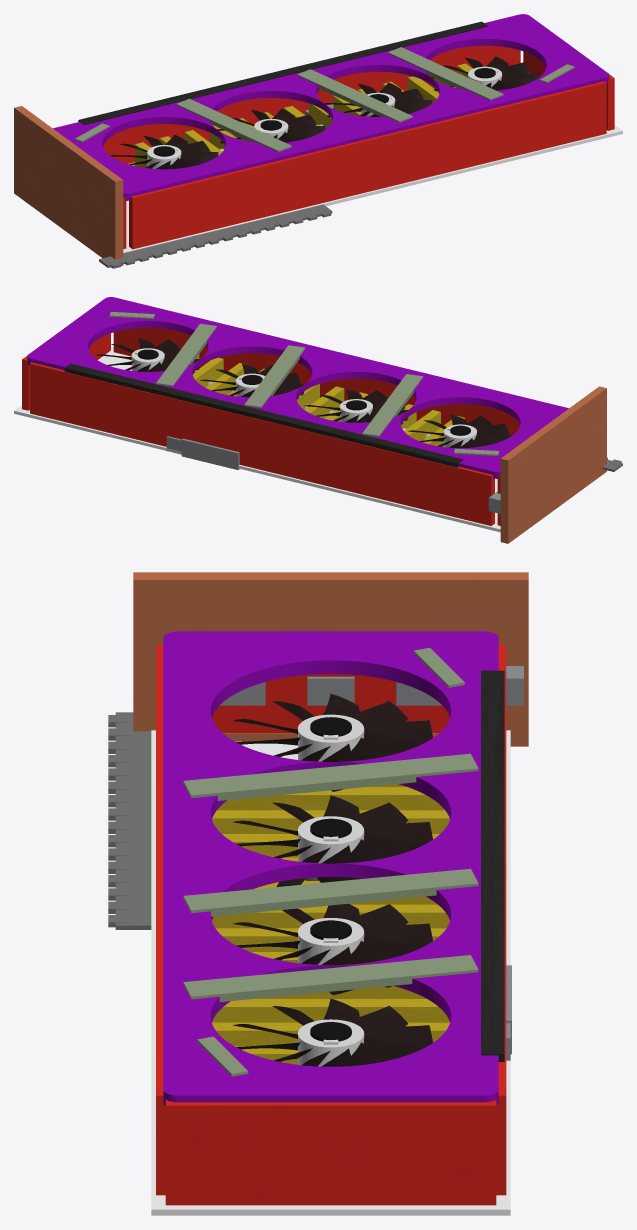
The model's file is Technology_Graphics_Card__0193.glb.
The picture shows the model from 3 angles, top to bottom: view 1: azimuth 30°, elevation 25°; view 2: azimuth 150°, elevation 25°; view 3: azimuth 270°, elevation 25°; orthographic projection. The views are drawn at different scales.
Parts seen in each view (by area): view 1: card_body::skirt_wall_bottom, card_body::shroud_faceplate, card_body::io_bracket_plate, card_body::skirt_wall_top, card_body::rgb_diffuser_strip, card_body::pcb, card_body::pcie_contact_bar, card_body::accent_strap_1, card_body::accent_strap_0, card_body::accent_strap_2, fan_0::rotor_blades, fan_3::rotor_blades (+5 smaller); view 2: card_body::skirt_wall_top, card_body::shroud_faceplate, card_body::io_bracket_plate, card_body::skirt_wall_bottom, card_body::rgb_diffuser_strip, card_body::pcb, fan_0::rotor_blades, card_body::accent_strap_1, card_body::accent_strap_0, card_body::accent_strap_2, card_body::power_connector_12vhpwr, fan_3::rotor_blades (+10 smaller); view 3: card_body::shroud_faceplate, card_body::skirt_wall_tail, card_body::io_bracket_plate, card_body::rgb_diffuser_strip, card_body::pcb, card_body::accent_strap_1, card_body::accent_strap_0, card_body::accent_strap_2, card_body::pcie_contact_bar, card_body::skirt_wall_head, fan_1::rotor_blades, fan_0::rotor_blades (+17 smaller).
Boxes of the visible parts, left/top/right/bottom form: card_body::skirt_wall_bottom: left=129, top=81, right=606, bottom=249; card_body::shroud_faceplate: left=53, top=14, right=609, bottom=200; card_body::io_bracket_plate: left=14, top=106, right=123, bottom=266; card_body::skirt_wall_top: left=103, top=45, right=520, bottom=163; card_body::rgb_diffuser_strip: left=78, top=21, right=487, bottom=124; card_body::pcb: left=123, top=73, right=622, bottom=252; card_body::pcie_contact_bar: left=99, top=204, right=332, bottom=267; card_body::accent_strap_1: left=297, top=69, right=412, bottom=122; card_body::accent_strap_0: left=176, top=98, right=291, bottom=152; card_body::accent_strap_2: left=388, top=47, right=503, bottom=100; fan_0::rotor_blades: left=110, top=135, right=218, bottom=169; fan_3::rotor_blades: left=431, top=56, right=538, bottom=91; card_body::skirt_wall_top: left=30, top=362, right=494, bottom=525; card_body::shroud_faceplate: left=27, top=297, right=568, bottom=478; card_body::io_bracket_plate: left=500, top=386, right=606, bottom=543; card_body::skirt_wall_bottom: left=113, top=327, right=519, bottom=435; card_body::rgb_diffuser_strip: left=64, top=363, right=463, bottom=467; card_body::pcb: left=14, top=347, right=500, bottom=532; fan_0::rotor_blades: left=408, top=414, right=511, bottom=447; card_body::accent_strap_1: left=244, top=345, right=305, bottom=407; card_body::accent_strap_0: left=362, top=374, right=423, bottom=436; card_body::accent_strap_2: left=156, top=323, right=216, bottom=386; card_body::power_connector_12vhpwr: left=181, top=438, right=239, bottom=469; fan_3::rotor_blades: left=96, top=338, right=199, bottom=373; card_body::shroud_faceplate: left=163, top=631, right=498, bottom=1105; card_body::skirt_wall_tail: left=165, top=1100, right=496, bottom=1205; card_body::io_bracket_plate: left=133, top=572, right=528, bottom=746; card_body::rgb_diffuser_strip: left=481, top=670, right=504, bottom=1061; card_body::pcb: left=151, top=730, right=510, bottom=1215; card_body::accent_strap_1: left=183, top=868, right=478, bottom=916; card_body::accent_strap_0: left=183, top=753, right=478, bottom=800; card_body::accent_strap_2: left=183, top=955, right=478, bottom=1001; card_body::pcie_contact_bar: left=115, top=712, right=151, bottom=929; card_body::skirt_wall_head: left=212, top=673, right=449, bottom=733; fan_1::rotor_blades: left=233, top=795, right=432, bottom=886; fan_0::rotor_blades: left=233, top=694, right=432, bottom=791.
Bounding box in the file's own units: 0.397 × 0.062 × 0.1416.
15 materials, 11 textured.
